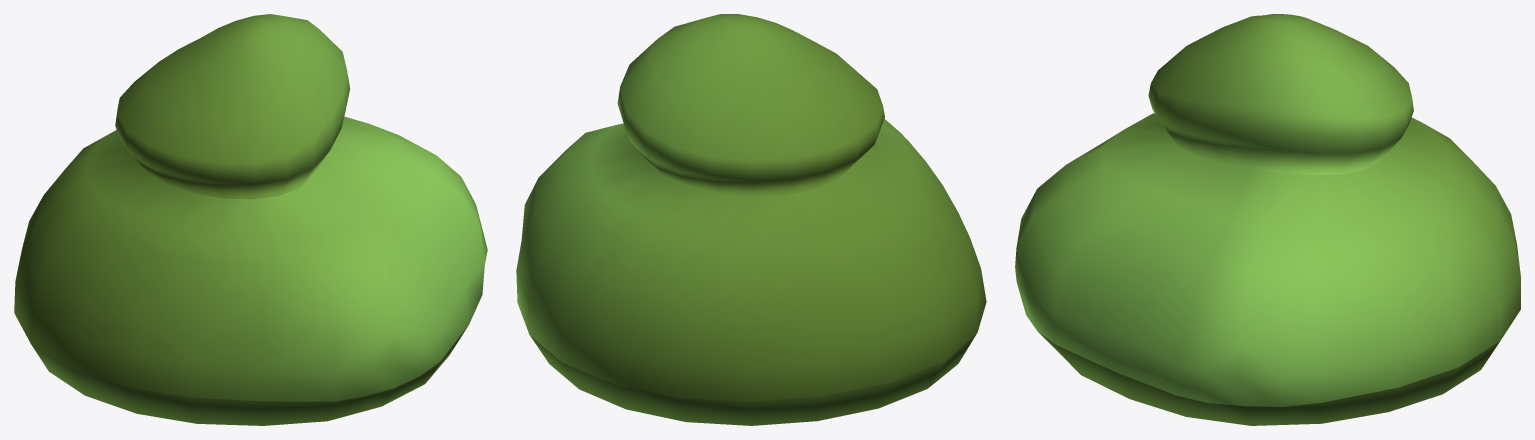
File: bush_big.fbx
The picture shows the model from 3 angles, left to right: view 1: azimuth 30°, elevation 25°; view 2: azimuth 150°, elevation 25°; view 3: azimuth 270°, elevation 25°; orthographic projection. The views are drawn at different scales.
Visible parts, largest first — view 1: bush_big; view 2: bush_big; view 3: bush_big.
Boxes of the visible parts, left/top/right/bottom form: bush_big: left=14, top=14, right=487, bottom=425; bush_big: left=516, top=14, right=986, bottom=425; bush_big: left=1015, top=14, right=1520, bottom=425.
Size of the model in its own units: 22.57 by 17.9 by 22.71.
